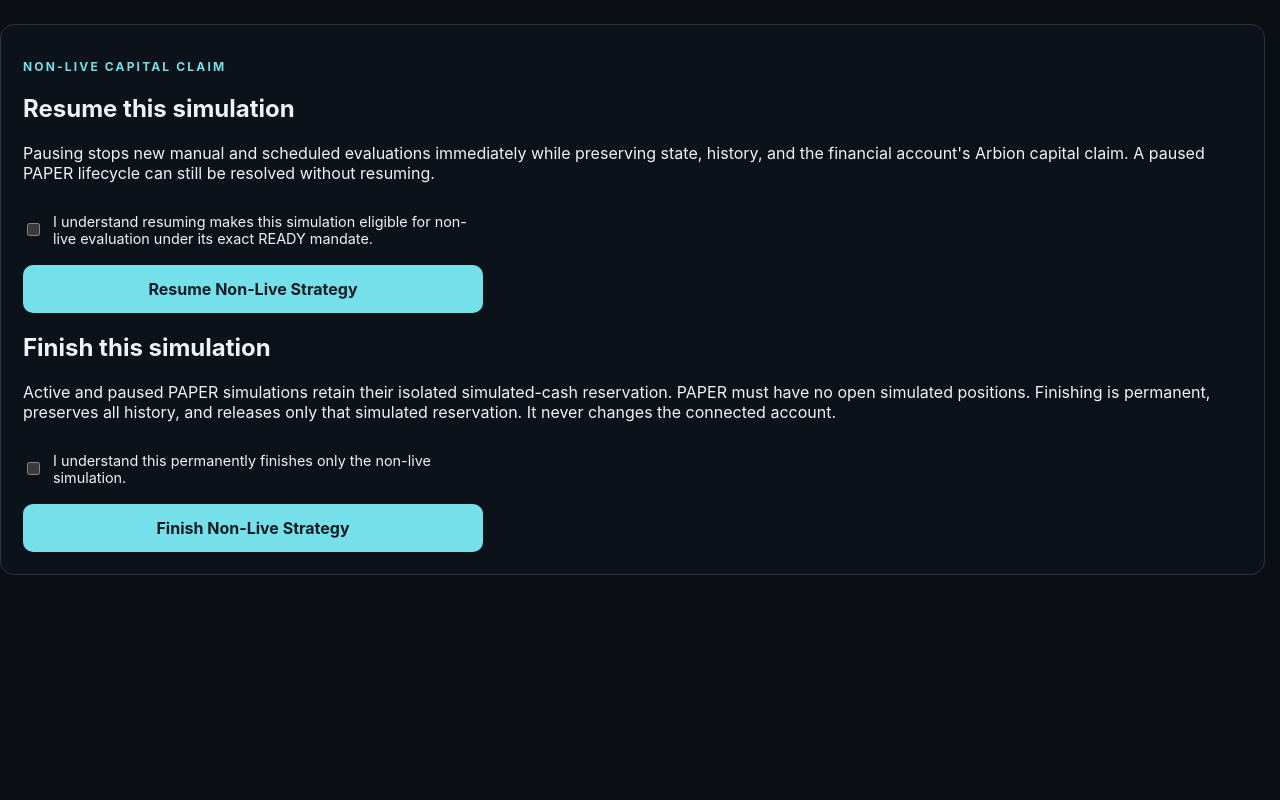
Test: StrategyInstanceControls › requires confirmation before resuming a paused simulation
Click the checkbox labelled "resuming makes this simulation" at x=34, y=230, box [27, 223, 40, 236]
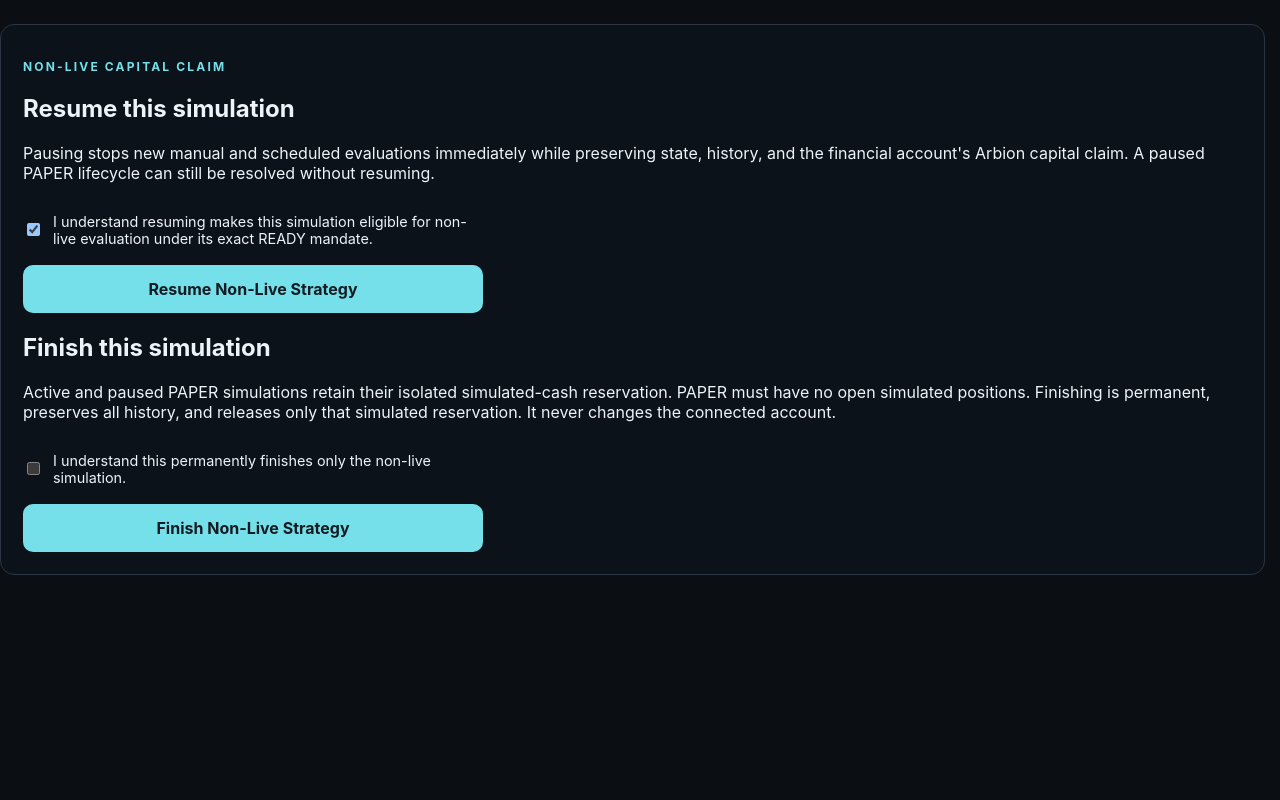
Click the button "Resume Non-Live Strategy" at x=253, y=289, box [23, 265, 483, 313]
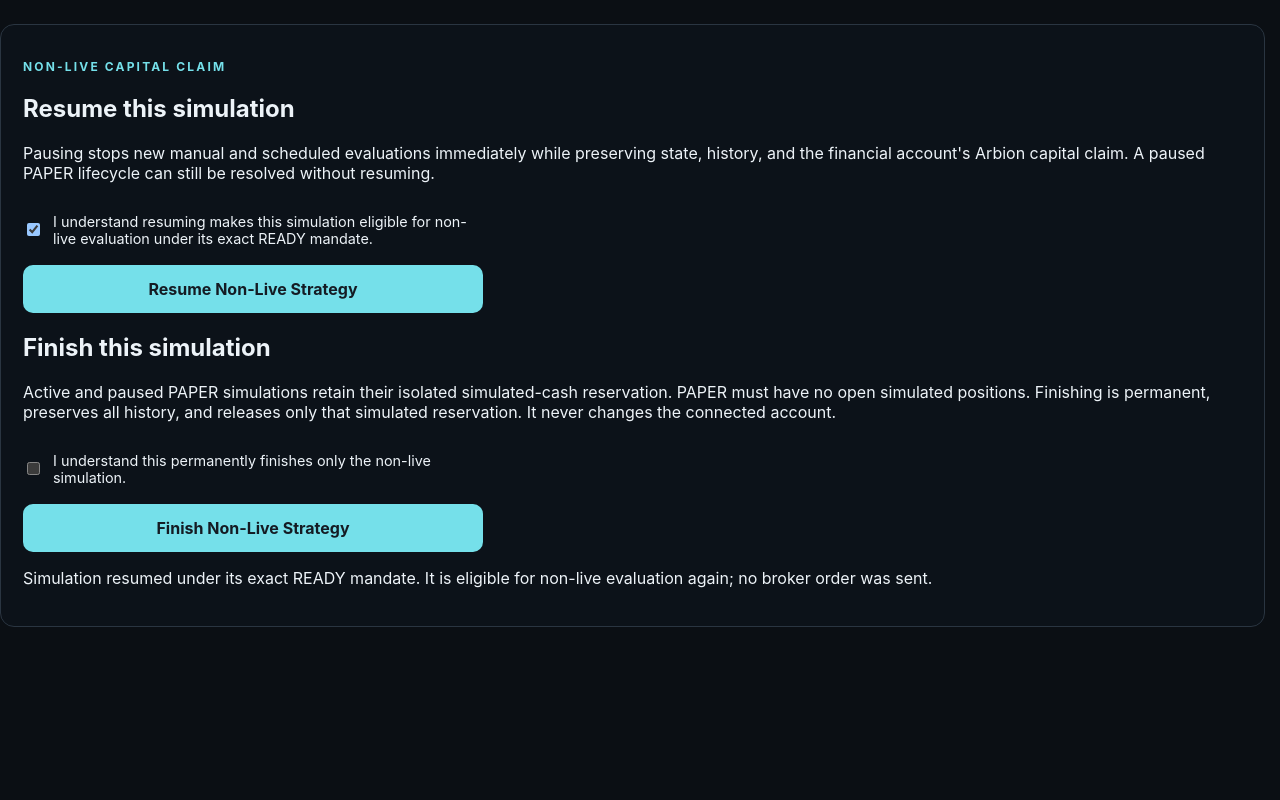
Expected: the message shows "eligible for non-live evaluation", [23, 568, 932, 588]
